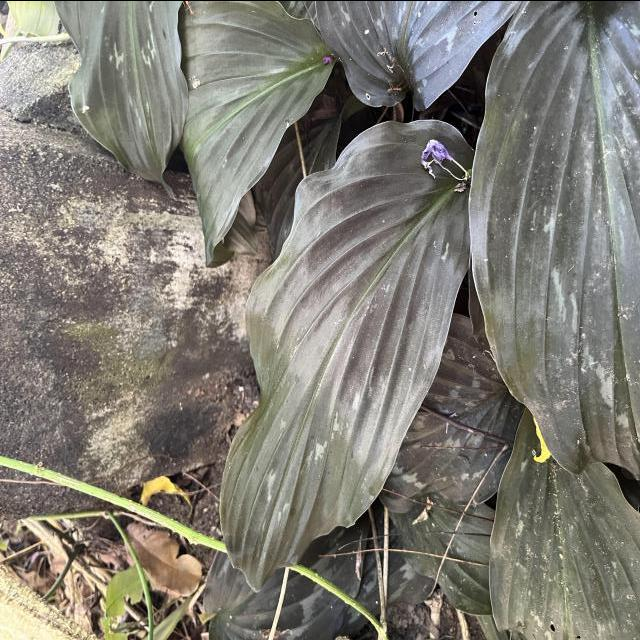Kaempferia galanga linn: (215, 114, 473, 595), (465, 0, 640, 484)
